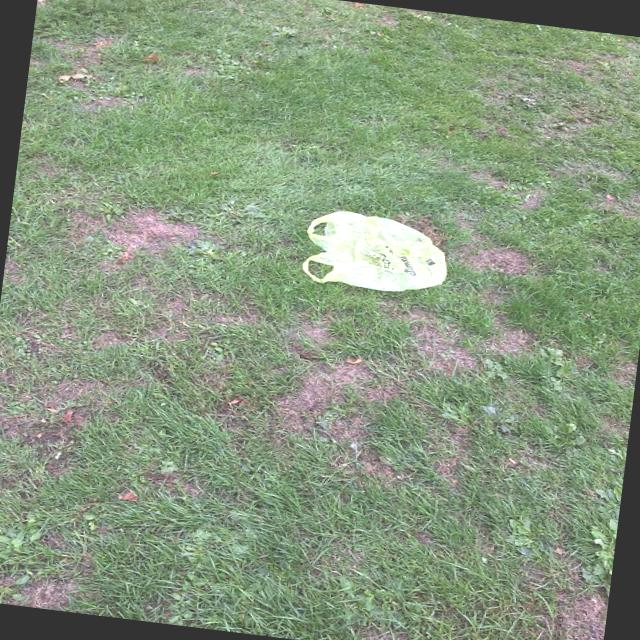Trash: (296, 202, 470, 308)
